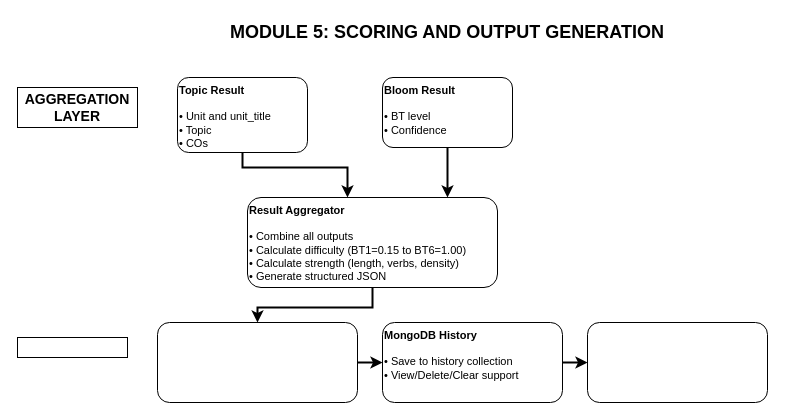
The diagram is 785 pixels wide and 420 high, and some of its shapes have lost their labels. Here are the shapes that lost their labels. From the top down, the box of each, then its label:
(16, 336, 128, 358): OUTPUT LAYER
(156, 322, 358, 402): JSON Output Single Mode: Complete evaluation PDF Mode: Question paper mapping
(586, 322, 768, 402): Export Options • PDF/ DOCX (full CO-BT mapping)
